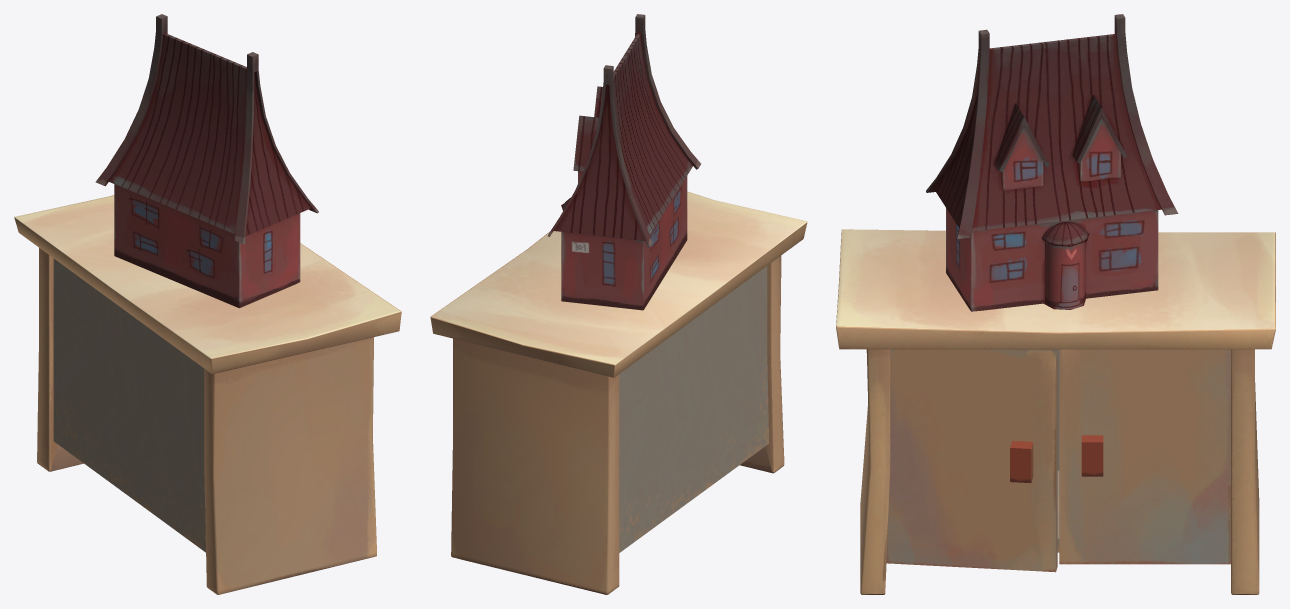
File: minicab.fbx
3 renders of one model, left to right at view 1: azimuth 30°, elevation 25°; view 2: azimuth 150°, elevation 25°; view 3: azimuth 270°, elevation 25°, orthographic. The views are drawn at different scales.
Visible parts, largest first — view 1: Material #435, Material #434; view 2: Material #435, Material #434; view 3: Material #435, Material #434.
Boxes of the visible parts, left/top/right/bottom form: Material #435: left=14, top=195, right=401, bottom=594; Material #434: left=95, top=14, right=318, bottom=308; Material #435: left=430, top=191, right=807, bottom=594; Material #434: left=547, top=14, right=700, bottom=310; Material #435: left=836, top=229, right=1275, bottom=594; Material #434: left=926, top=14, right=1178, bottom=311.
Bounding box in the file's own units: 186 × 427 × 323.
2 materials, 2 textured.
